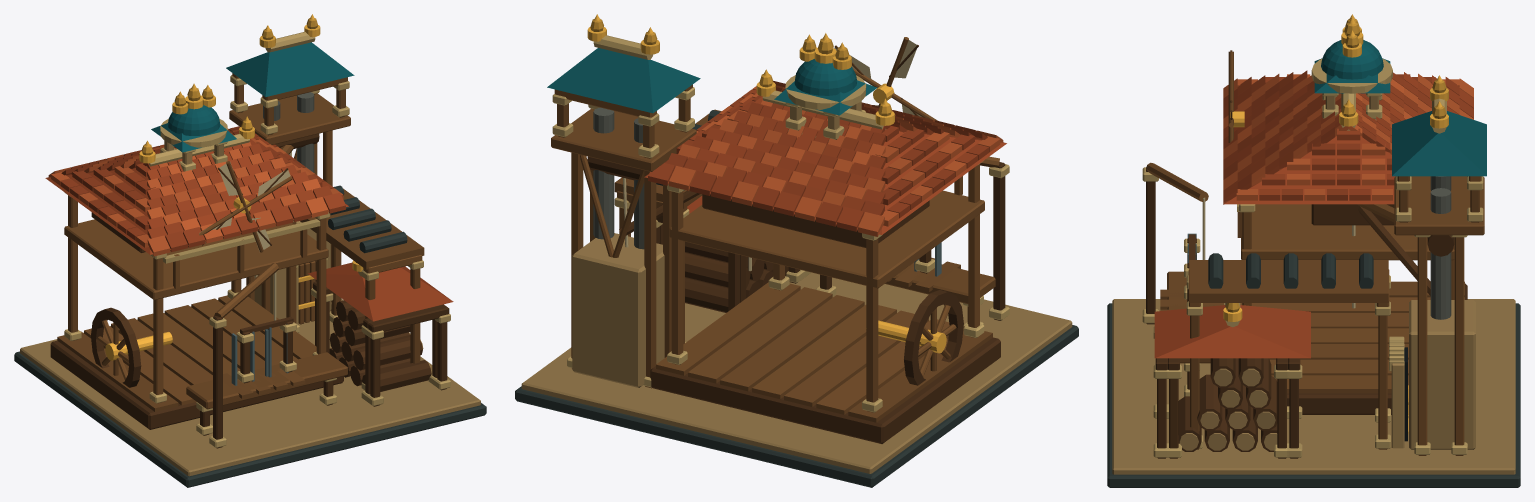
The picture shows the model from 3 angles, left to right: view 1: azimuth 30°, elevation 25°; view 2: azimuth 150°, elevation 25°; view 3: azimuth 270°, elevation 25°; orthographic projection. The views are drawn at different scales.
Visible parts, largest first — view 1: lumber_15_structure, lumber_15_metal; view 2: lumber_15_structure, lumber_15_metal; view 3: lumber_15_structure, lumber_15_metal.
Part boxes in pixels (<box>): lumber_15_structure: <box>14,18,486,487</box>; lumber_15_metal: <box>105,14,363,360</box>; lumber_15_structure: <box>515,19,1078,487</box>; lumber_15_metal: <box>587,14,946,353</box>; lumber_15_structure: <box>1107,18,1520,487</box>; lumber_15_metal: <box>1223,14,1448,434</box>.
Size of the model in its own units: 5.6 by 5.49 by 5.6.
